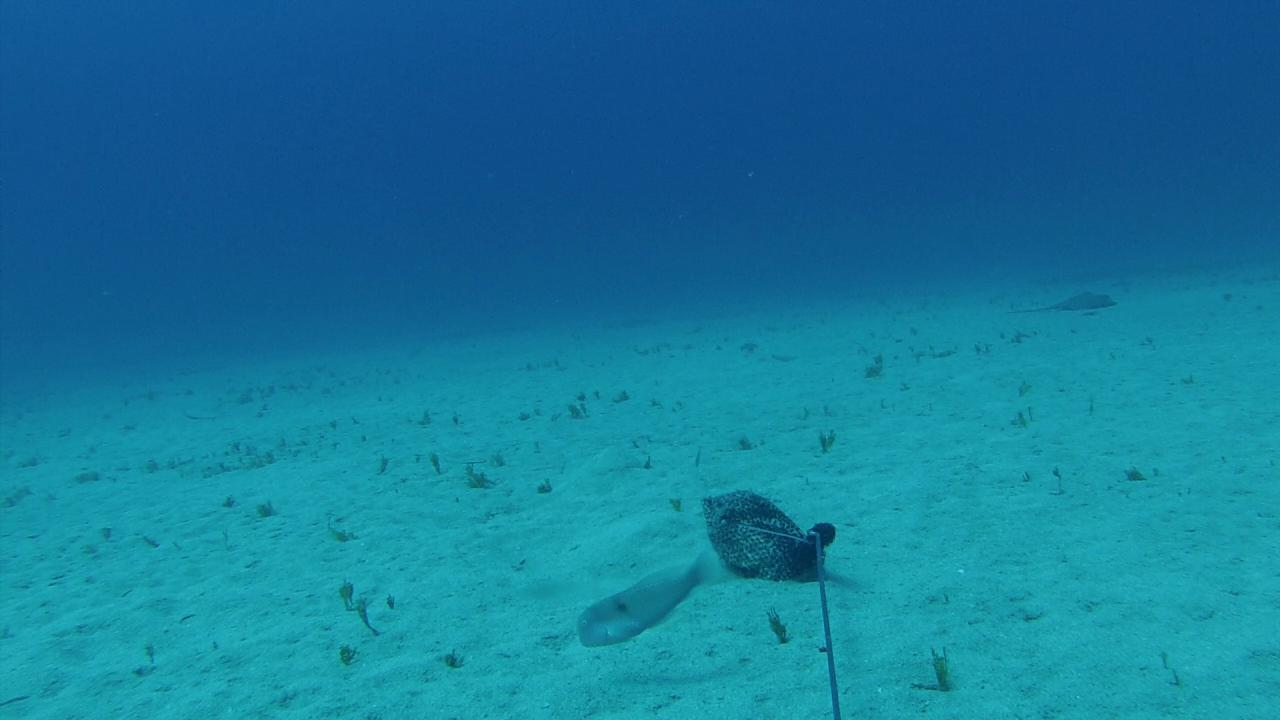dasyatis: (1001, 290, 1116, 314)
raor: (577, 550, 715, 650)
